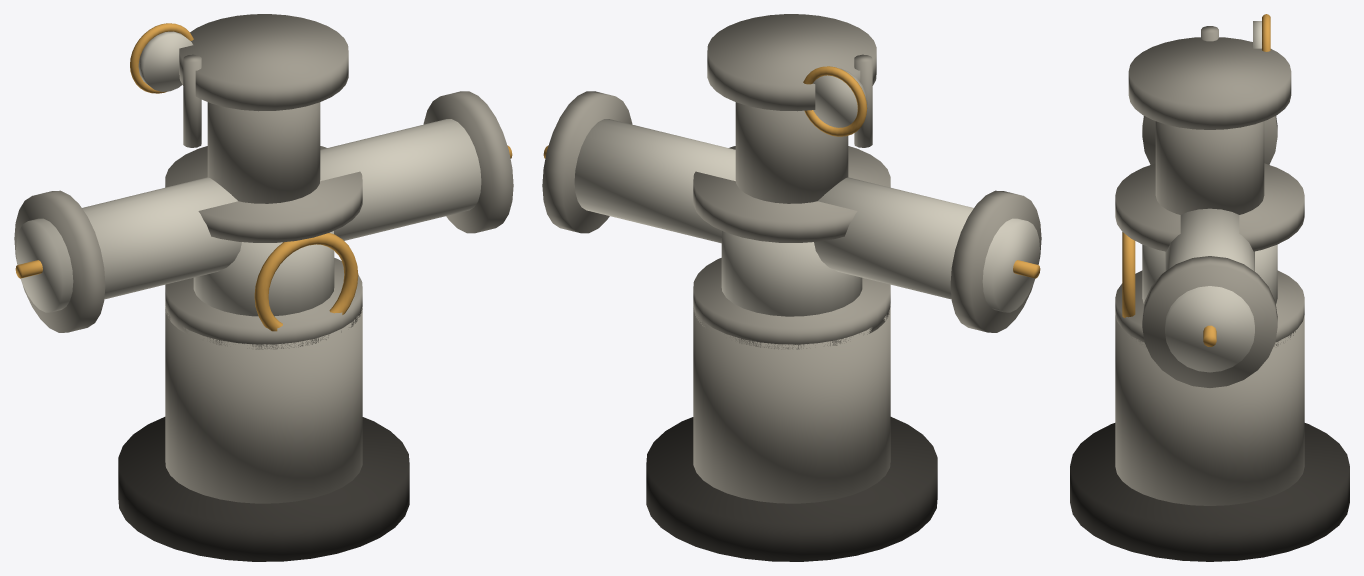
The model's file is wellhead.obj.
The picture shows the model from 3 angles, left to right: view 1: azimuth 30°, elevation 25°; view 2: azimuth 150°, elevation 25°; view 3: azimuth 270°, elevation 25°; orthographic projection. The views are drawn at different scales.
Visible parts, largest first — view 1: wellhead__Steel, wellhead__LightSteel, wellhead__DarkSteel, wellhead__Amber; view 2: wellhead__Steel, wellhead__LightSteel, wellhead__DarkSteel, wellhead__Amber; view 3: wellhead__Steel, wellhead__DarkSteel, wellhead__LightSteel, wellhead__Amber.
Part boxes in pixels (left/top/right/bottom): wellhead__Steel: left=14, top=14, right=513, bottom=503; wellhead__LightSteel: left=16, top=31, right=481, bottom=316; wellhead__DarkSteel: left=118, top=417, right=409, bottom=561; wellhead__Amber: left=15, top=23, right=512, bottom=331; wellhead__Steel: left=542, top=14, right=1041, bottom=503; wellhead__LightSteel: left=574, top=68, right=1039, bottom=316; wellhead__DarkSteel: left=646, top=417, right=937, bottom=561; wellhead__Amber: left=543, top=66, right=1040, bottom=278; wellhead__Steel: left=1115, top=26, right=1304, bottom=505; wellhead__DarkSteel: left=1070, top=423, right=1349, bottom=561; wellhead__LightSteel: left=1142, top=21, right=1277, bottom=372; wellhead__Amber: left=1122, top=14, right=1270, bottom=346.
Size of the model in its own units: 2.4 by 2.21 by 1.24.
